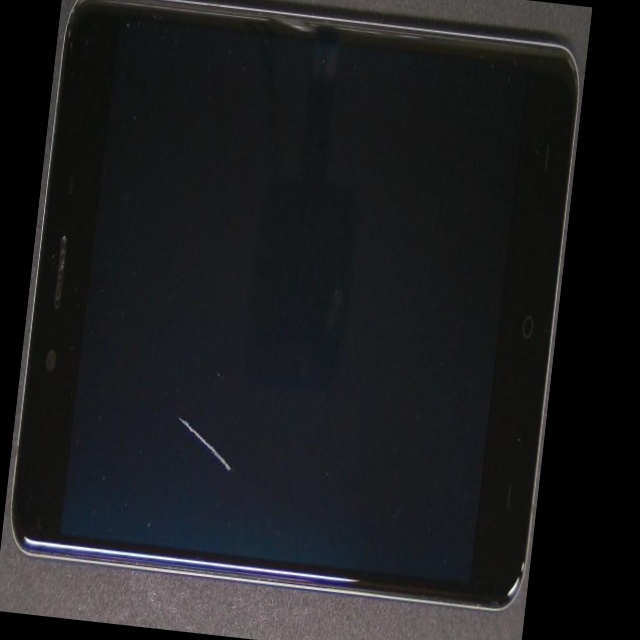scratch: (85, 130, 289, 634)
